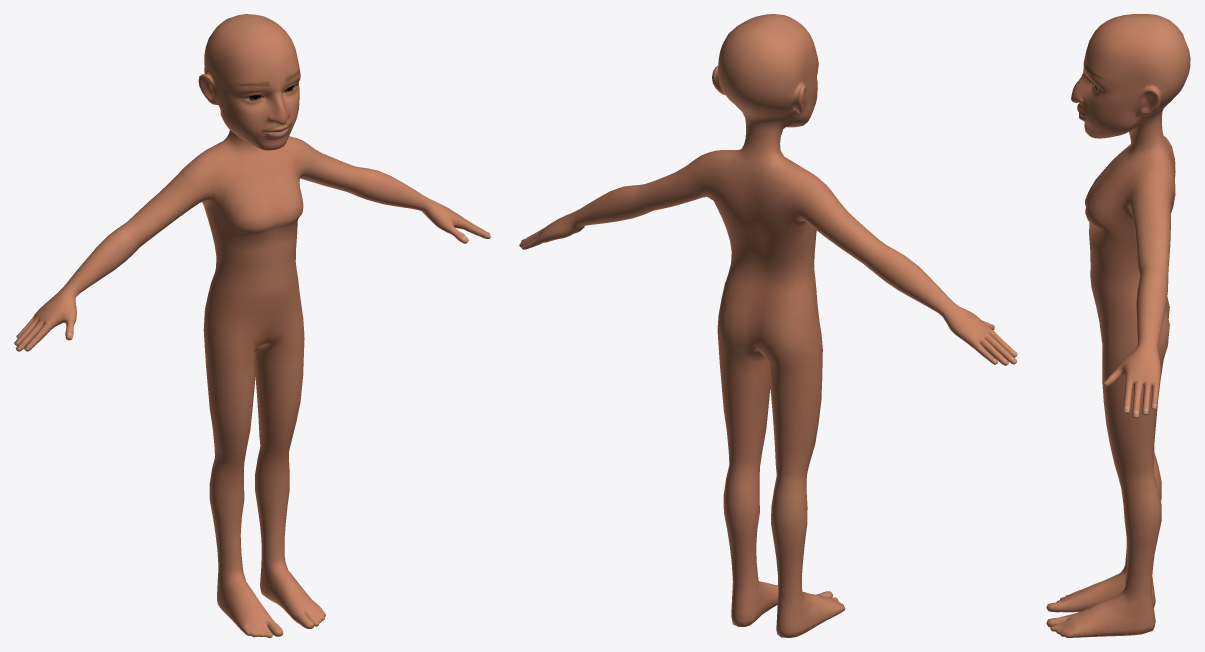
Rendered from frame_0025.glb.
3 views of the same model, side by side, from view 1: azimuth 30°, elevation 25°; view 2: azimuth 150°, elevation 25°; view 3: azimuth 270°, elevation 25° (orthographic). The views are drawn at different scales.
Parts seen in each view (by area): view 1: frame_0025_head_geo; view 2: frame_0025_head_geo; view 3: frame_0025_head_geo.
Boxes of the visible parts, <box> form: frame_0025_head_geo: <box>14,14,490,637</box>; frame_0025_head_geo: <box>519,14,1017,637</box>; frame_0025_head_geo: <box>1046,14,1190,637</box>.
Size of the model in its own units: 1.28 by 1.5 by 0.3253.
3 materials, 3 textured.
